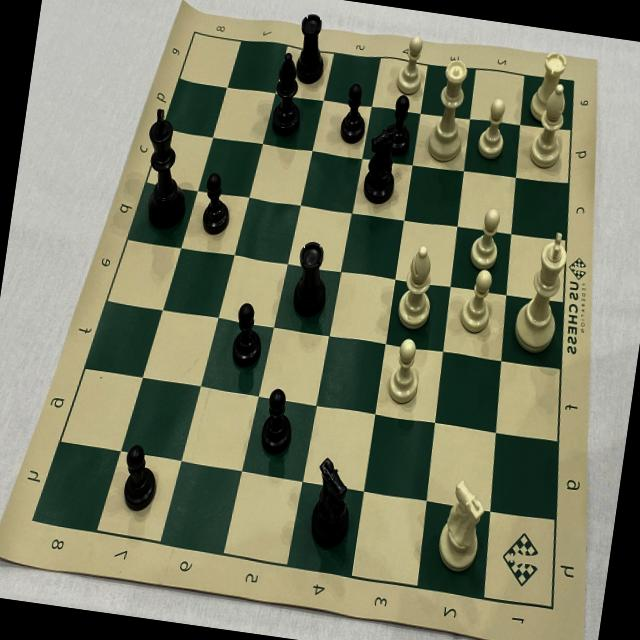black-bishop: (267, 45, 312, 143)
black-king: (132, 101, 202, 235)
black-knight: (302, 442, 365, 556), (352, 118, 412, 210)
black-pawn: (116, 436, 166, 518), (254, 380, 304, 460), (224, 294, 272, 376), (380, 89, 423, 161), (197, 166, 238, 240), (334, 78, 376, 149)
black-rook: (284, 232, 338, 324), (290, 5, 338, 91)
white-bishop: (390, 236, 449, 339), (523, 73, 577, 175)
white-king: (504, 218, 578, 365)
white-knight: (426, 466, 498, 586)
white-pawn: (452, 260, 505, 344), (380, 330, 428, 414), (470, 86, 518, 168), (462, 200, 510, 282), (391, 28, 432, 104)
white-queen: (419, 48, 480, 172)
white-rook: (523, 40, 574, 129)
